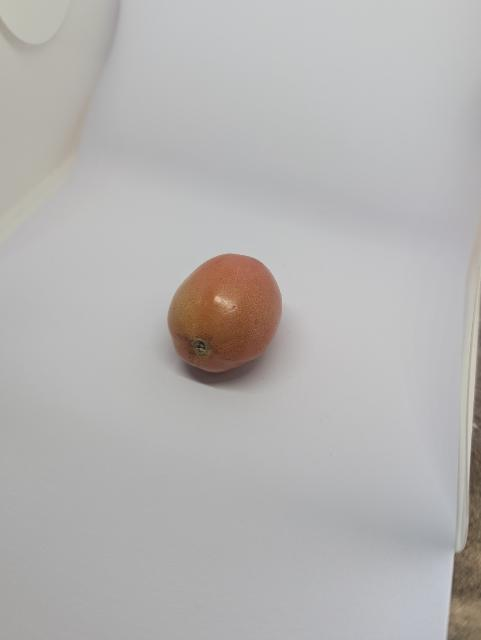turning: (163, 245, 286, 378)
